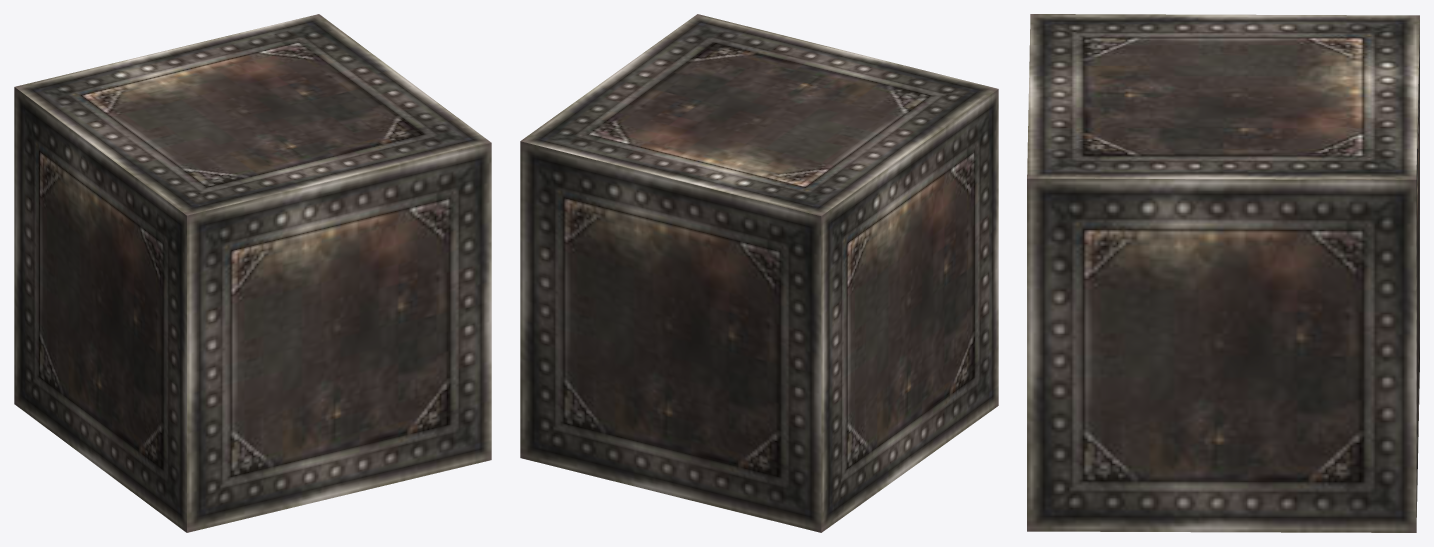
The model's file is BBox02.FBX.
3 views of the same model, side by side, from view 1: azimuth 30°, elevation 25°; view 2: azimuth 150°, elevation 25°; view 3: azimuth 270°, elevation 25° (orthographic). The views are drawn at different scales.
Visible parts, largest first — view 1: Object05, Object06, Object04, Object03, Object146, Object01, Object02; view 2: Object09, Object10, Object04, Object03, Object146, Object01, Object02; view 3: Object07, Object08, Object146, Object01, Object02, Object09, Object10.
Boxes of the visible parts, bbox=[...] form: Object05: bbox=[187, 175, 355, 532]; Object06: bbox=[347, 143, 491, 494]; Object04: bbox=[14, 87, 118, 468]; Object03: bbox=[101, 165, 186, 532]; Object146: bbox=[118, 14, 373, 215]; Object01: bbox=[187, 55, 491, 215]; Object02: bbox=[15, 14, 318, 164]; Object09: bbox=[520, 141, 709, 496]; Object10: bbox=[677, 188, 821, 532]; Object04: bbox=[821, 140, 928, 532]; Object03: bbox=[910, 89, 998, 468]; Object146: bbox=[520, 89, 997, 141]; Object01: bbox=[577, 14, 997, 100]; Object02: bbox=[521, 139, 927, 215]; Object07: bbox=[1027, 178, 1291, 532]; Object08: bbox=[1230, 179, 1416, 532]; Object146: bbox=[1031, 14, 1415, 179]; Object01: bbox=[1027, 14, 1291, 179]; Object02: bbox=[1185, 14, 1419, 179]; Object09: bbox=[1416, 84, 1418, 517]; Object10: bbox=[1418, 20, 1419, 436].
Size of the model in its own units: 26.54 by 26.32 by 26.54.
Materials: 1 (1 with a texture image).
